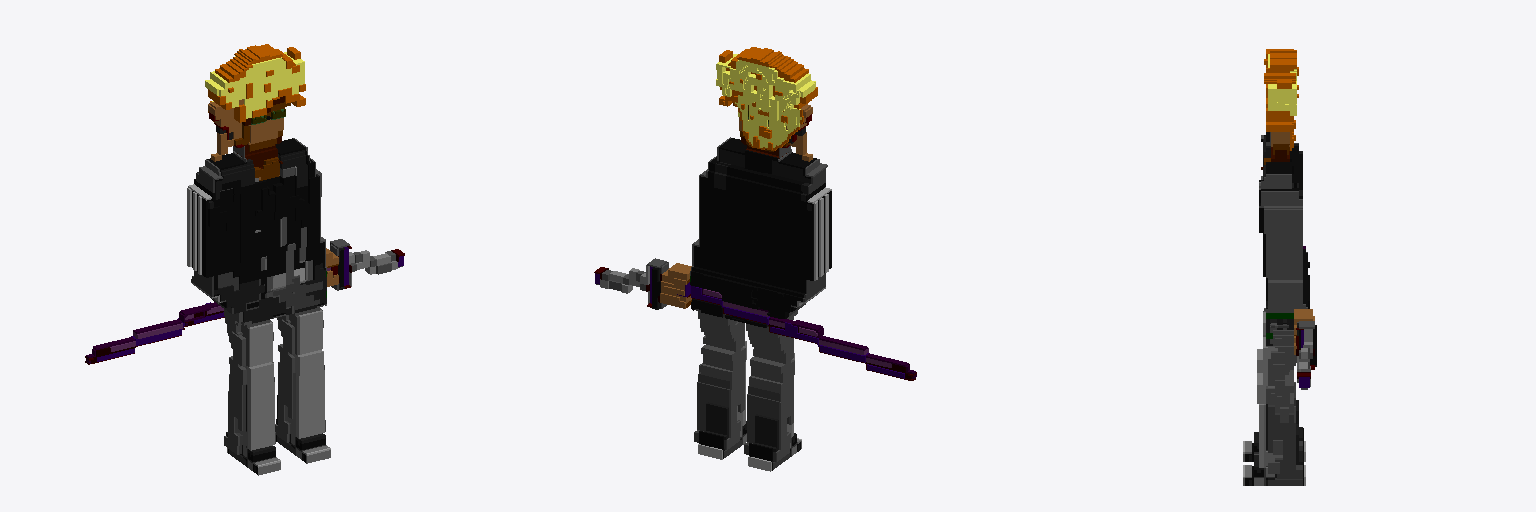
3 views of the same model, side by side, from view 1: azimuth 30°, elevation 25°; view 2: azimuth 150°, elevation 25°; view 3: azimuth 270°, elevation 25° (orthographic).
Parts seen in each view (by area): view 1: object 1; view 2: object 1; view 3: object 1.
Boxes of the visible parts, box(x1,y1,x2,y2) form: object 1: box(85, 44, 404, 475); object 1: box(594, 47, 916, 471); object 1: box(1243, 49, 1316, 485).
Size of the model in its own units: 20.9 by 25.6 by 4.2.
Materials: 1 (1 with a texture image).